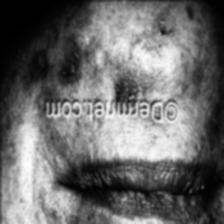Non-Cancerous Skin Condition: (62, 47, 85, 80), (112, 76, 138, 104), (154, 12, 172, 38), (35, 48, 47, 74)
